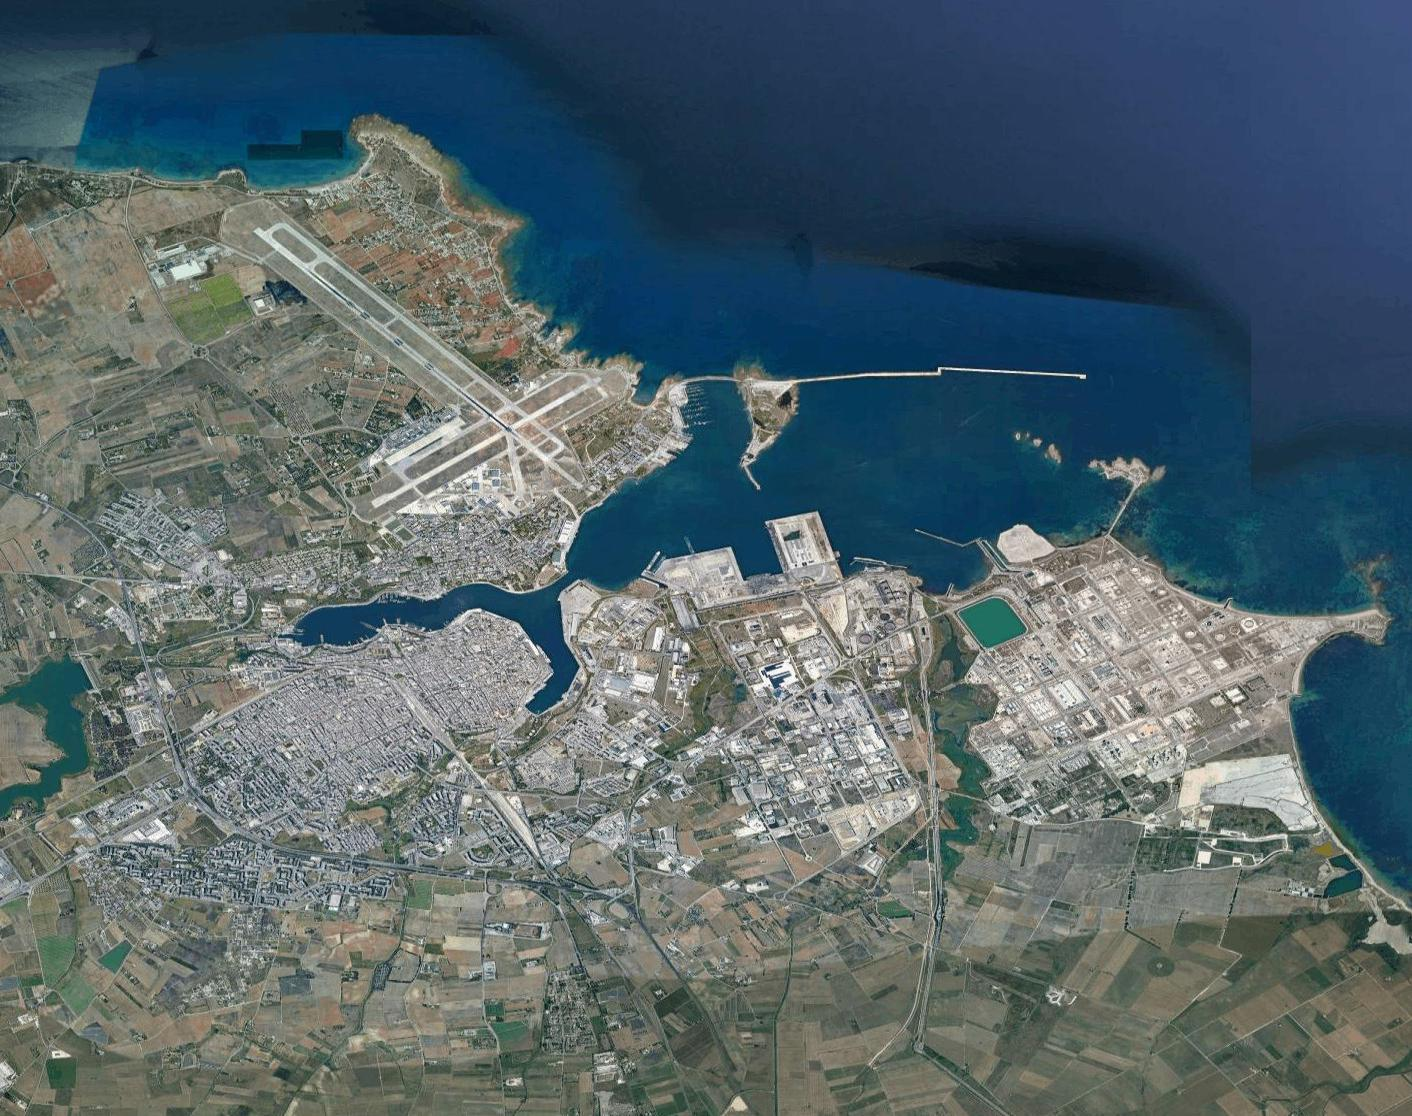airport: (260, 222, 543, 454)
harbor: (626, 505, 844, 603), (668, 379, 734, 433)
